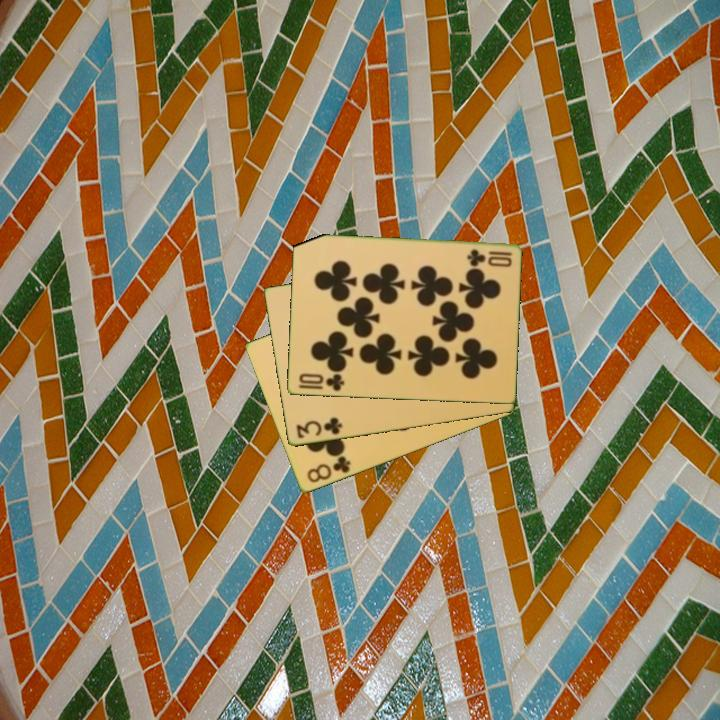10c: (295, 370, 347, 394), (463, 246, 514, 267)
3c: (293, 414, 345, 441)
8c: (303, 453, 353, 486)
